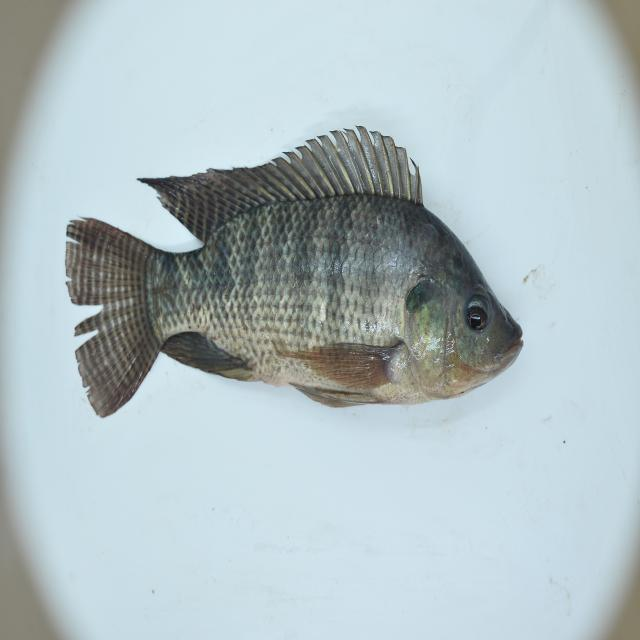Healthy Fish: (65, 128, 531, 422)
